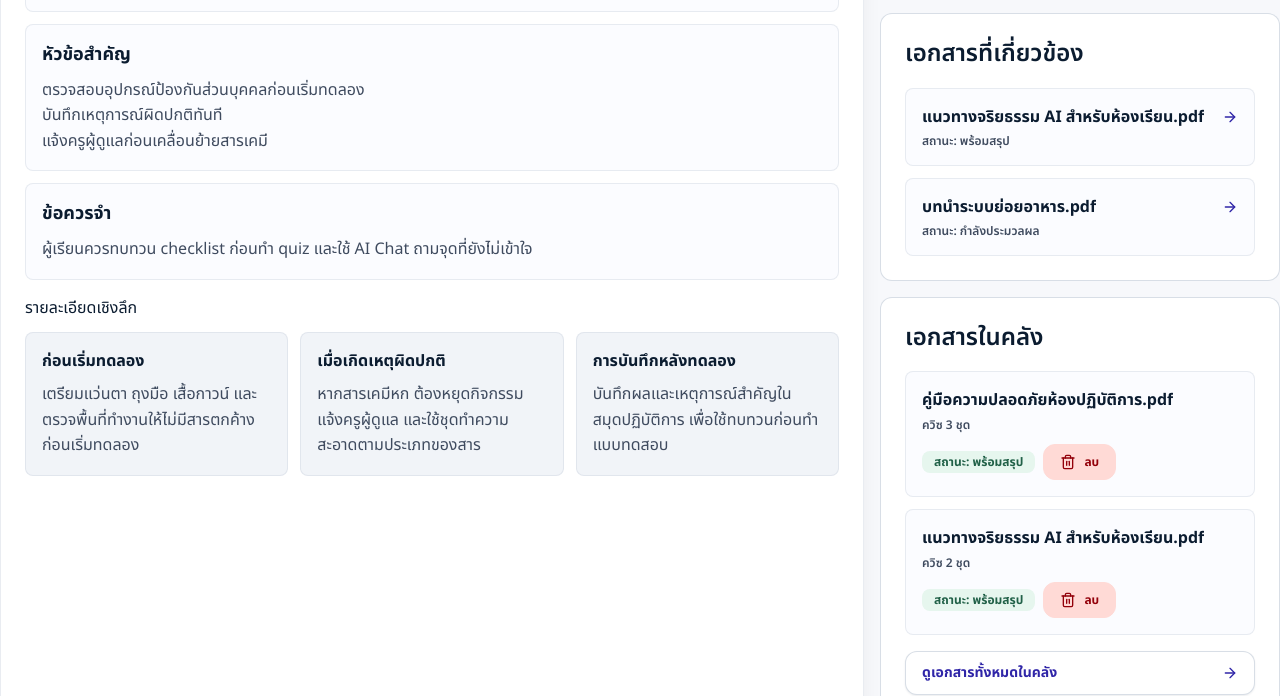
Scenario: DocumentSummaryPage › keeps a document visible and shows a safe error when delete fails
(page scrolled)
Click the button with aria-label "ลบเอกสาร แนวทางจริยธรรม AI สำหรับห้องเรียน.pdf" at (1080, 600), box [1043,582,1116,618]
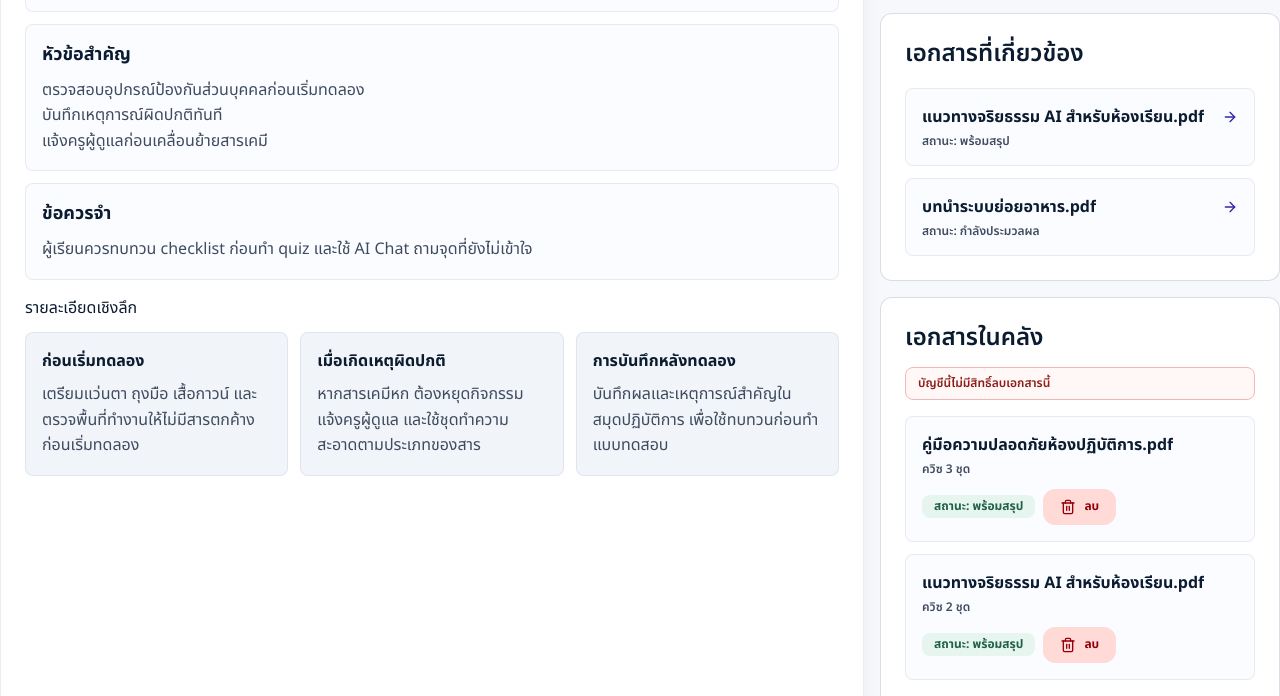
Expected: the element named "เอกสารในคลัง แนวทางจริยธรรม AI สำหรับห้องเรียน.pdf" is shown, [905,554,1255,680]
Now the message reads "บัญชีนี้ไม่มีสิทธิ์ลบเอกสารนี้", box [918,374,1050,392]
